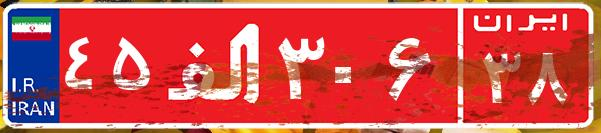0: (330, 28, 385, 110)
3: (273, 28, 330, 110), (475, 38, 525, 113)
4: (57, 26, 110, 107)
5: (110, 28, 158, 105)
6: (385, 28, 445, 110)
8: (525, 38, 570, 115)
الف: (158, 15, 273, 115)
